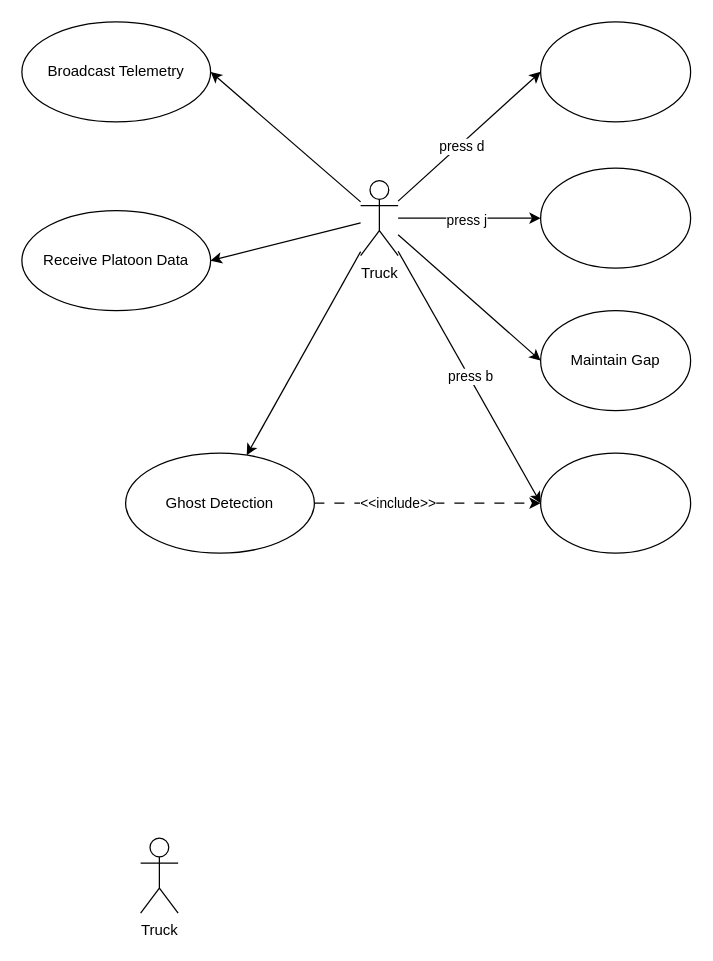
This 713x961 diagram has some shape labels left out. The centre of each missing label's shape, as x and y in pixels:
"Comm Failure" goes at (x=615, y=217).
"Couple/Decouple" goes at (x=615, y=71).
"Emergency Brake" goes at (x=615, y=502).
